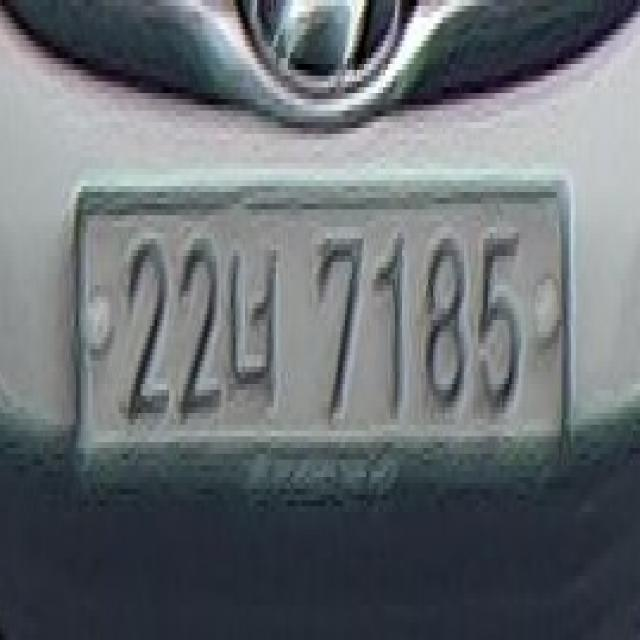1: (371, 227, 409, 423)
2: (122, 230, 172, 426), (176, 228, 224, 432)
5: (477, 224, 526, 428)
7: (310, 223, 366, 425)
8: (420, 226, 470, 421)
license_plate: (82, 204, 567, 456)
neo: (229, 234, 285, 427)
